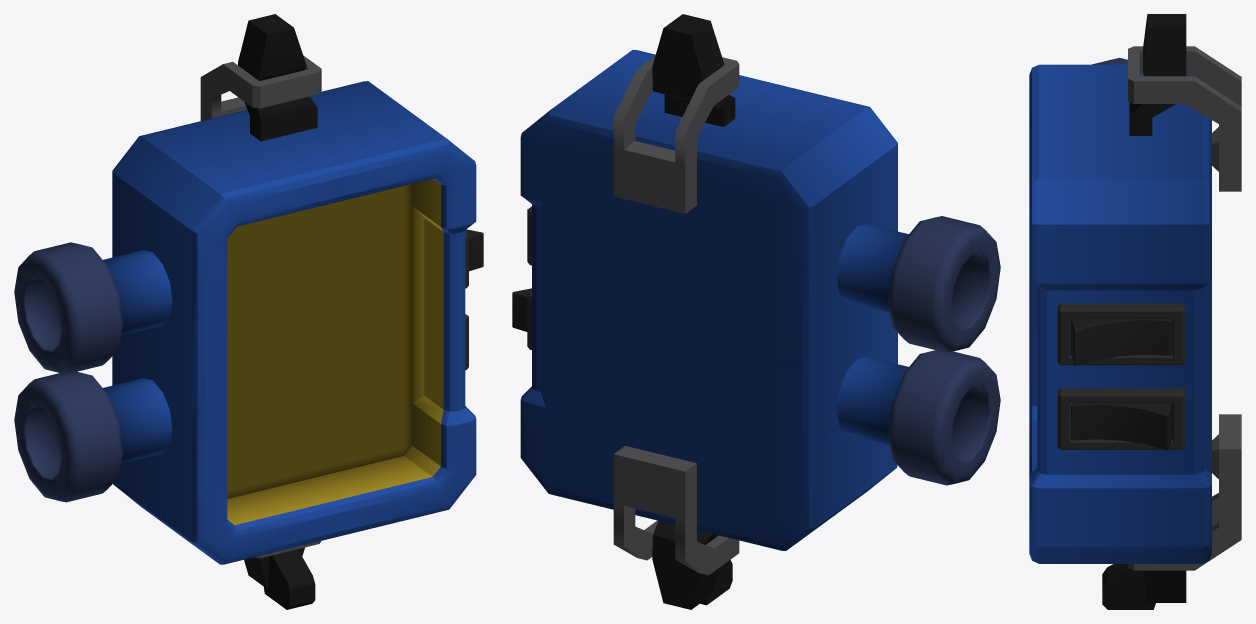
File: Procesor_Cooling_lvl_10_V01.fbx
3 views of the same model, side by side, from view 1: azimuth 30°, elevation 25°; view 2: azimuth 150°, elevation 25°; view 3: azimuth 270°, elevation 25° (orthographic). The views are drawn at different scales.
Visible parts, largest first — view 1: Procesor_Cooling_lvl_10; view 2: Procesor_Cooling_lvl_10; view 3: Procesor_Cooling_lvl_10.
Boxes of the visible parts, x1=… form: Procesor_Cooling_lvl_10: x1=14, y1=14, x2=483, y2=609; Procesor_Cooling_lvl_10: x1=512, y1=14, x2=1000, y2=609; Procesor_Cooling_lvl_10: x1=1029, y1=14, x2=1241, y2=609.
Size of the model in its own units: 36.59 by 46.77 by 15.47.
